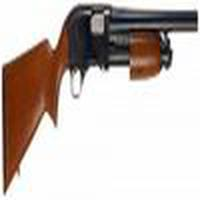gun: (1, 3, 198, 193)
